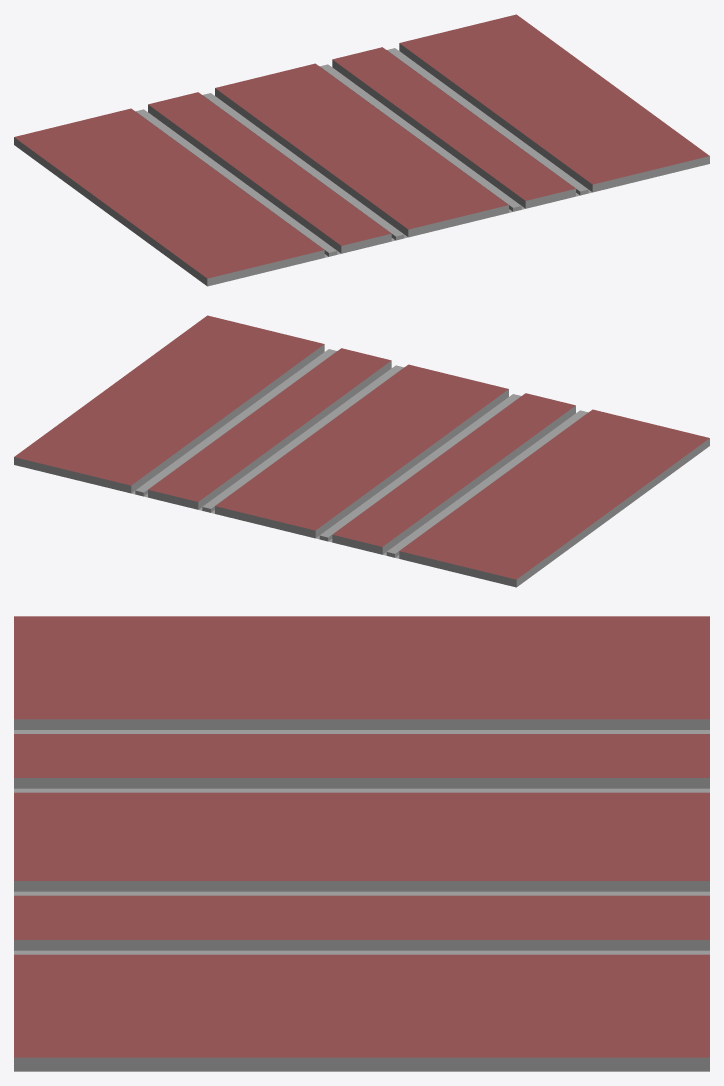
The model's file is straight1.fbx.
The picture shows the model from 3 angles, top to bottom: view 1: azimuth 30°, elevation 25°; view 2: azimuth 150°, elevation 25°; view 3: azimuth 270°, elevation 25°; orthographic projection. The views are drawn at different scales.
Parts seen in each view (by area): view 1: Straight1; view 2: Straight1; view 3: Straight1.
Part boxes in pixels (left/top/right/bottom): Straight1: left=14, top=14, right=709, bottom=286; Straight1: left=14, top=315, right=709, bottom=587; Straight1: left=14, top=616, right=709, bottom=1071.
Bounding box in the file's own units: 600 × 9 × 400.
